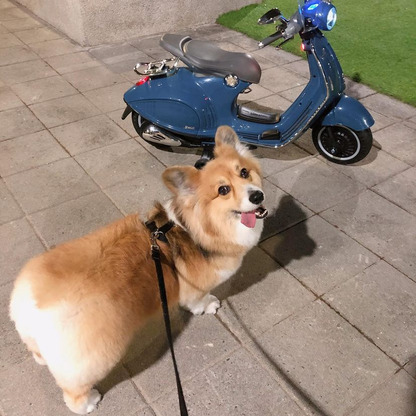Corgi: (22, 126, 276, 407)
